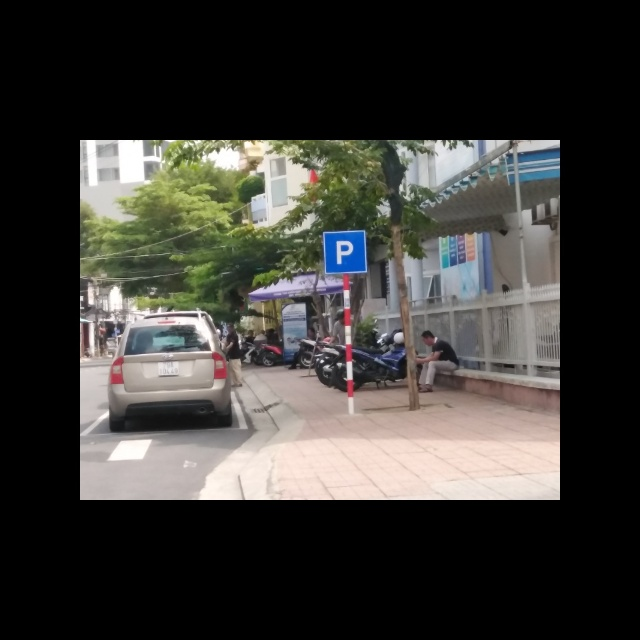Nơi đỗ xe: (323, 231, 369, 276)
